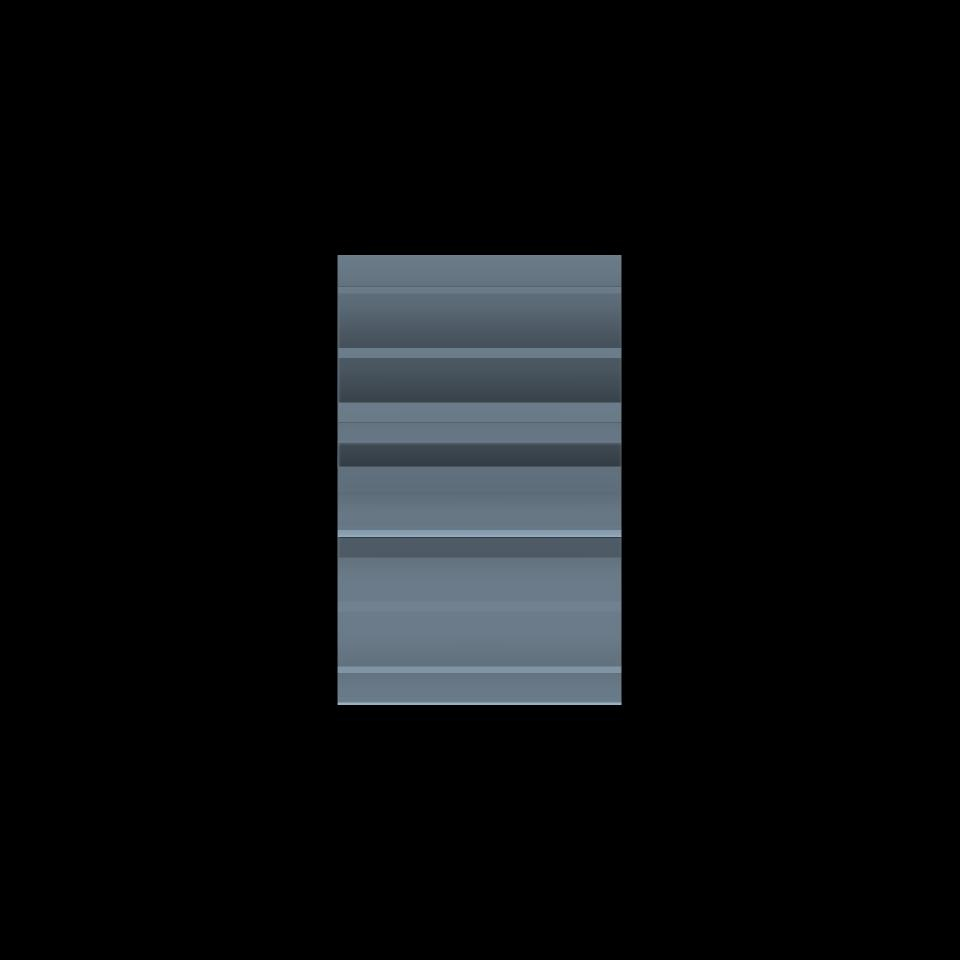Straight: (338, 254, 621, 704)
